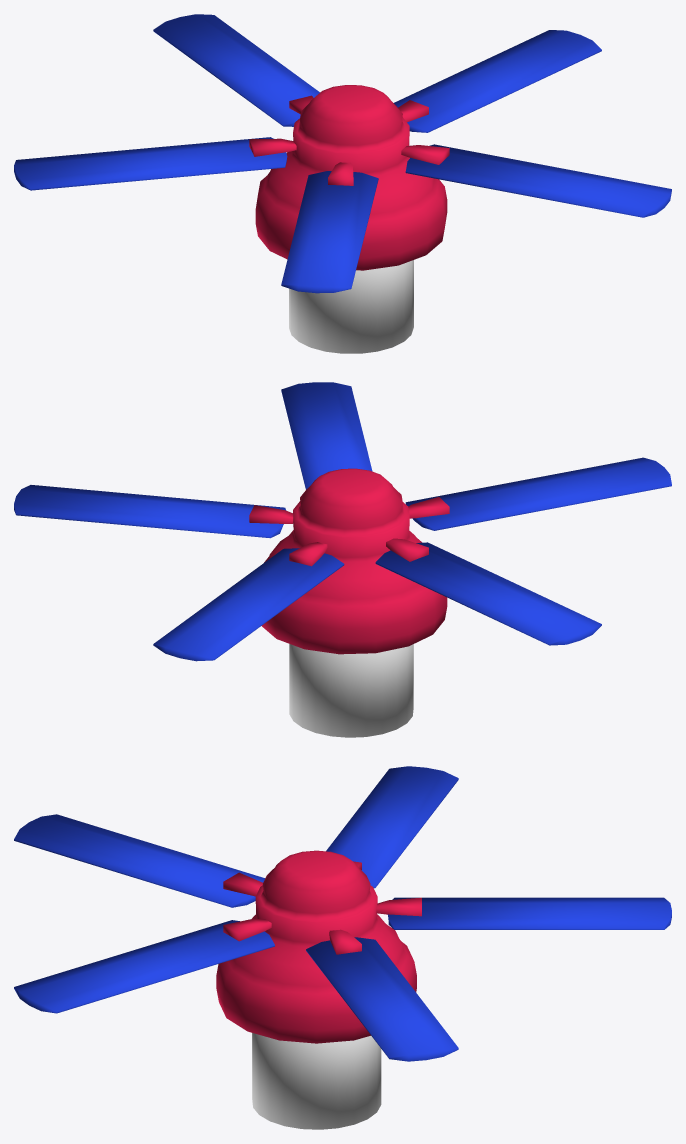
Rendered from pervane2.fbx.
3 views of the same model, one above another, from view 1: azimuth 30°, elevation 25°; view 2: azimuth 150°, elevation 25°; view 3: azimuth 270°, elevation 25° (orthographic). The views are drawn at different scales.
Parts seen in each view (by area): view 1: ceiling-fan, ceiling-fan.001; view 2: ceiling-fan, ceiling-fan.001; view 3: ceiling-fan, ceiling-fan.001.
Boxes of the visible parts, x1,y1,x2,y2 form: ceiling-fan: (14, 14, 671, 293); ceiling-fan.001: (289, 260, 413, 353); ceiling-fan: (14, 382, 671, 661); ceiling-fan.001: (289, 644, 413, 737); ceiling-fan: (14, 766, 671, 1061); ceiling-fan.001: (252, 1033, 381, 1129).
Size of the model in its own units: 1055 by 405 by 1015.
